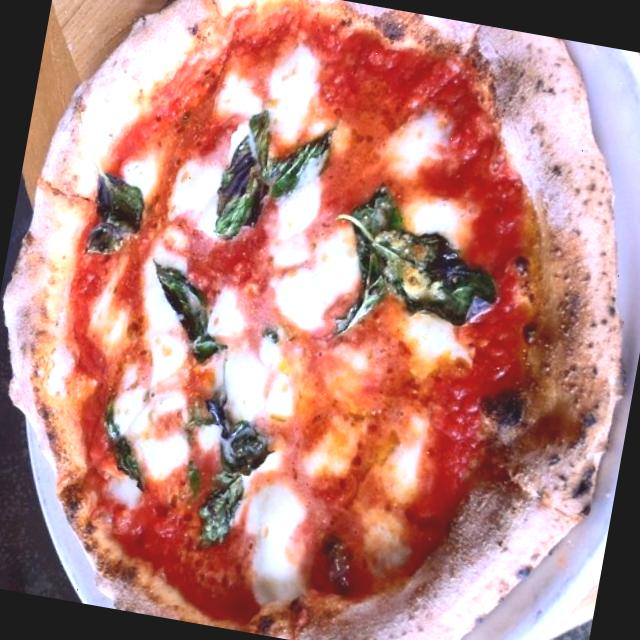basil: (195, 82, 362, 250), (320, 192, 500, 346), (166, 372, 272, 553), (60, 134, 166, 281), (140, 256, 240, 383), (77, 380, 166, 483)
cheese: (222, 462, 344, 624), (158, 73, 275, 237), (114, 214, 214, 398), (183, 312, 309, 453), (350, 394, 445, 554), (350, 98, 480, 212), (94, 364, 209, 483), (267, 204, 366, 330), (254, 37, 330, 159), (392, 311, 478, 378)
pizza: (4, 0, 621, 640)
